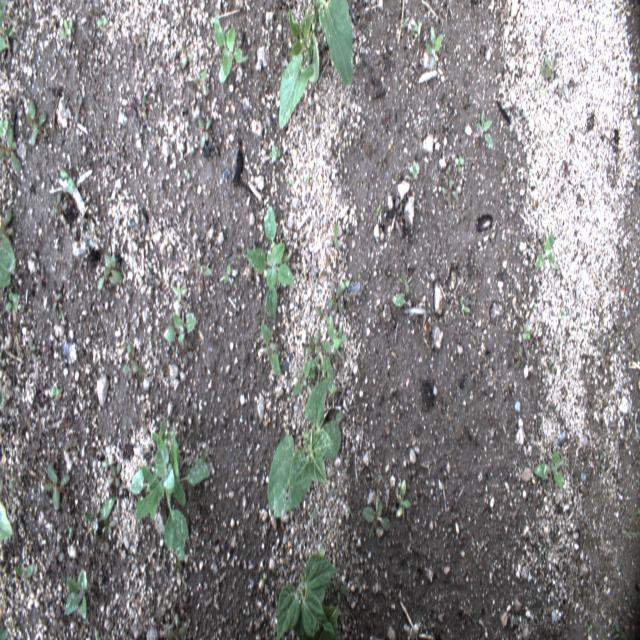crop: (266, 313, 343, 520), (128, 418, 210, 563), (278, 0, 354, 129), (275, 544, 340, 639), (245, 205, 296, 322), (213, 15, 250, 89), (0, 207, 17, 290), (66, 568, 88, 616), (0, 498, 13, 544)
weed: (93, 494, 119, 554), (45, 459, 72, 508), (26, 97, 48, 150), (0, 116, 21, 171), (261, 322, 281, 378), (362, 494, 391, 530), (168, 312, 197, 348), (328, 276, 350, 317), (534, 232, 556, 270), (0, 0, 14, 54), (550, 448, 566, 492), (426, 27, 444, 66), (124, 341, 144, 375), (104, 252, 123, 284), (398, 476, 412, 517), (108, 454, 122, 488), (198, 117, 212, 150), (476, 115, 491, 143), (540, 56, 556, 81), (60, 170, 77, 193), (55, 189, 69, 215), (218, 262, 232, 286), (534, 461, 550, 481), (513, 343, 525, 368), (60, 17, 74, 38), (196, 261, 214, 277), (4, 294, 18, 314), (13, 565, 32, 579), (268, 143, 281, 163), (172, 282, 182, 306), (182, 48, 194, 68), (194, 68, 208, 84), (456, 153, 466, 175), (394, 291, 406, 309), (402, 271, 411, 295), (560, 307, 575, 321), (50, 383, 61, 401), (333, 222, 340, 250), (459, 297, 471, 313), (522, 322, 531, 342), (442, 187, 451, 204), (412, 22, 423, 35), (412, 158, 418, 181), (99, 14, 107, 30)
